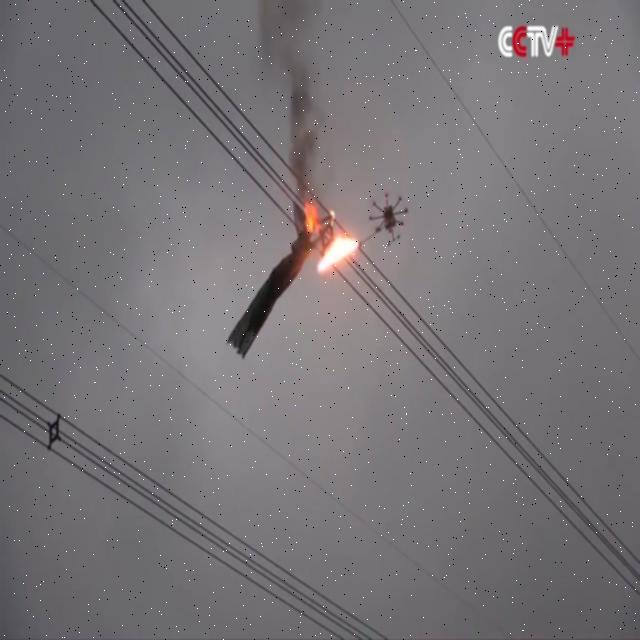UAV: (359, 193, 408, 247)
